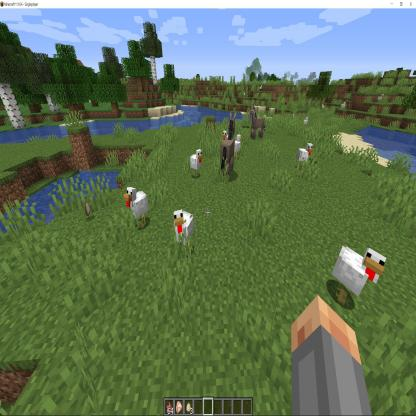minecraft-pigs: (179, 110, 238, 200)
